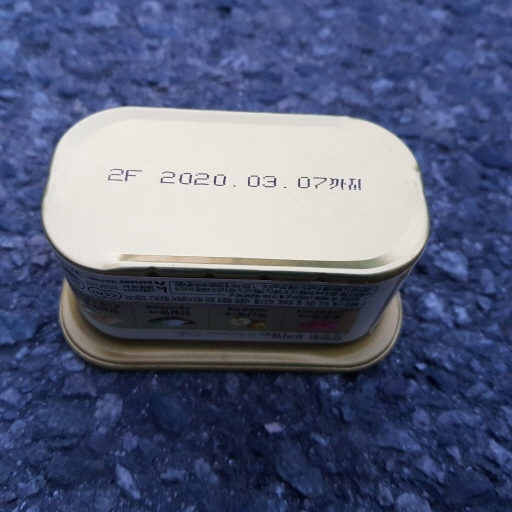Metal_2: (38, 105, 430, 379)
